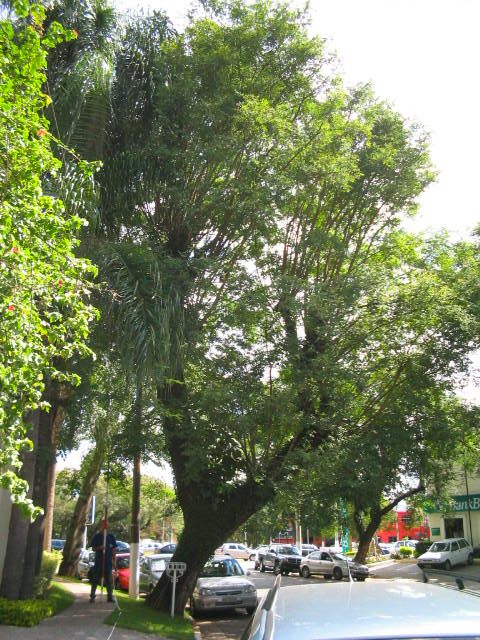crown: (99, 5, 478, 527)
stem: (137, 526, 229, 621)
stick: (97, 460, 114, 606)
tree: (95, 1, 480, 624)
